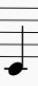note: (3, 3, 31, 78)
